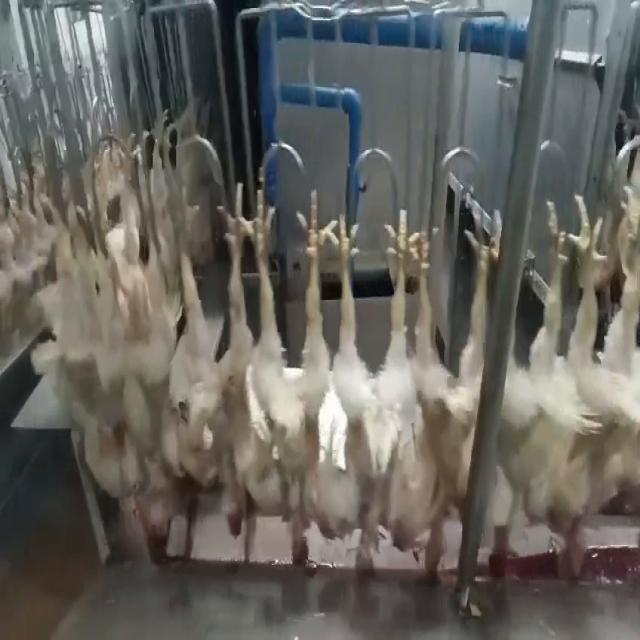chicken: (409, 205, 501, 578), (477, 195, 562, 588), (326, 201, 415, 575), (554, 192, 639, 580), (165, 171, 246, 541), (247, 184, 325, 564), (126, 174, 160, 556)
